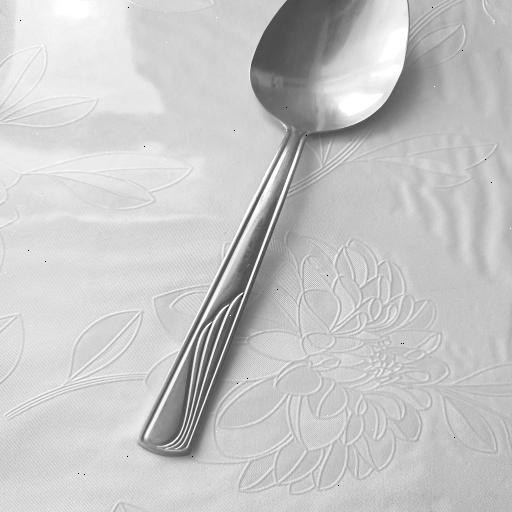spoon: (133, 0, 412, 459)
